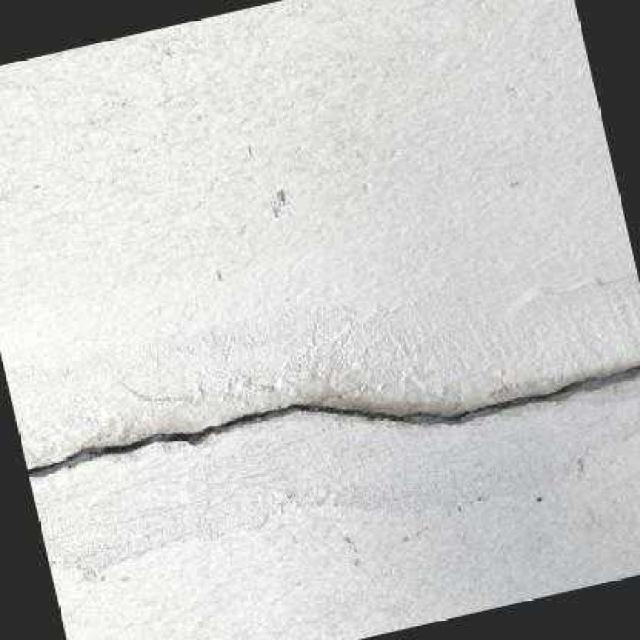D00: (26, 362, 640, 479)
